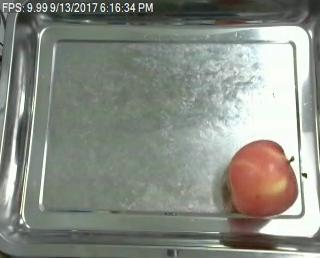apple: (227, 137, 300, 220)
